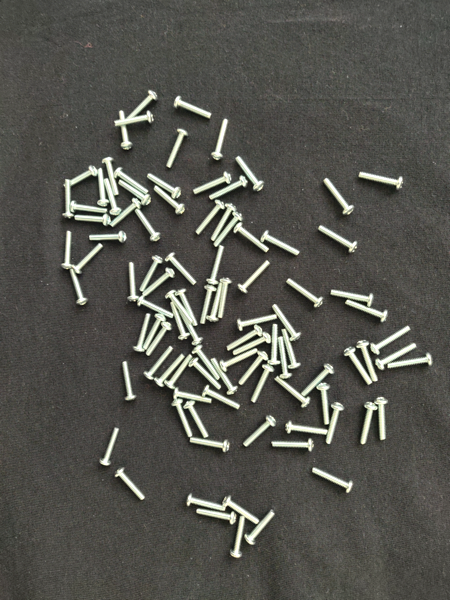longscrew: (323, 172, 356, 216), (318, 222, 358, 254), (234, 223, 274, 255), (374, 343, 416, 372), (370, 324, 412, 353), (263, 226, 302, 257), (284, 277, 323, 308), (116, 467, 146, 506), (244, 416, 275, 453), (184, 397, 210, 441), (358, 340, 384, 384), (176, 301, 202, 345), (95, 425, 120, 469), (209, 117, 234, 161), (165, 127, 190, 171), (370, 398, 395, 442), (345, 343, 370, 387), (116, 178, 152, 208), (200, 387, 243, 412), (167, 399, 192, 442), (355, 403, 380, 446), (115, 164, 150, 194), (275, 380, 312, 408), (245, 512, 277, 544), (300, 365, 334, 395), (174, 289, 203, 324), (236, 158, 265, 193), (155, 183, 184, 218), (165, 353, 193, 389), (240, 258, 268, 294), (165, 289, 193, 325), (220, 349, 257, 376), (167, 252, 197, 285), (198, 199, 224, 237), (145, 345, 173, 380), (156, 352, 184, 387), (272, 305, 300, 340), (312, 468, 354, 491), (110, 199, 140, 230), (241, 352, 266, 389), (211, 175, 248, 200), (148, 175, 182, 202), (138, 293, 174, 318), (212, 204, 236, 241), (217, 212, 242, 247), (134, 211, 162, 242), (283, 327, 303, 370), (234, 334, 271, 357), (120, 360, 140, 402), (327, 403, 347, 445), (314, 383, 334, 425), (187, 435, 231, 454), (269, 437, 313, 456), (388, 355, 432, 374), (171, 98, 215, 117), (254, 365, 273, 409), (226, 329, 262, 352), (195, 346, 220, 379), (284, 419, 327, 438), (145, 312, 167, 349), (191, 361, 220, 389), (213, 361, 238, 393), (184, 493, 228, 511), (193, 508, 237, 526), (359, 170, 403, 188), (88, 226, 132, 244), (69, 211, 113, 229), (194, 173, 230, 195), (145, 270, 173, 298), (147, 322, 170, 356), (346, 302, 389, 320), (331, 288, 374, 306), (113, 111, 156, 129), (173, 386, 211, 406), (170, 302, 189, 339), (142, 256, 160, 292), (209, 280, 224, 322), (71, 264, 86, 306), (102, 154, 117, 196), (94, 166, 109, 208), (268, 325, 283, 367), (134, 311, 149, 353), (275, 338, 290, 379), (238, 314, 276, 330), (218, 278, 232, 320), (209, 243, 223, 285), (201, 285, 215, 327), (126, 261, 140, 303), (117, 109, 131, 151), (105, 176, 119, 218), (68, 202, 110, 215)
